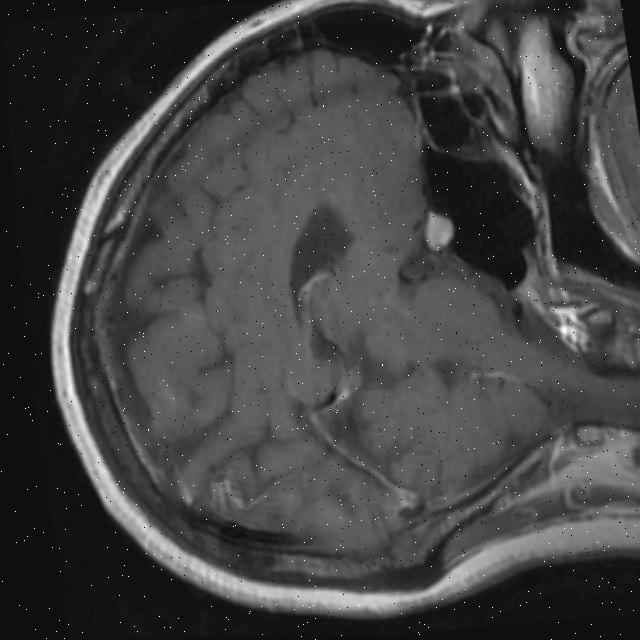Pituitary: (421, 207, 457, 252)
